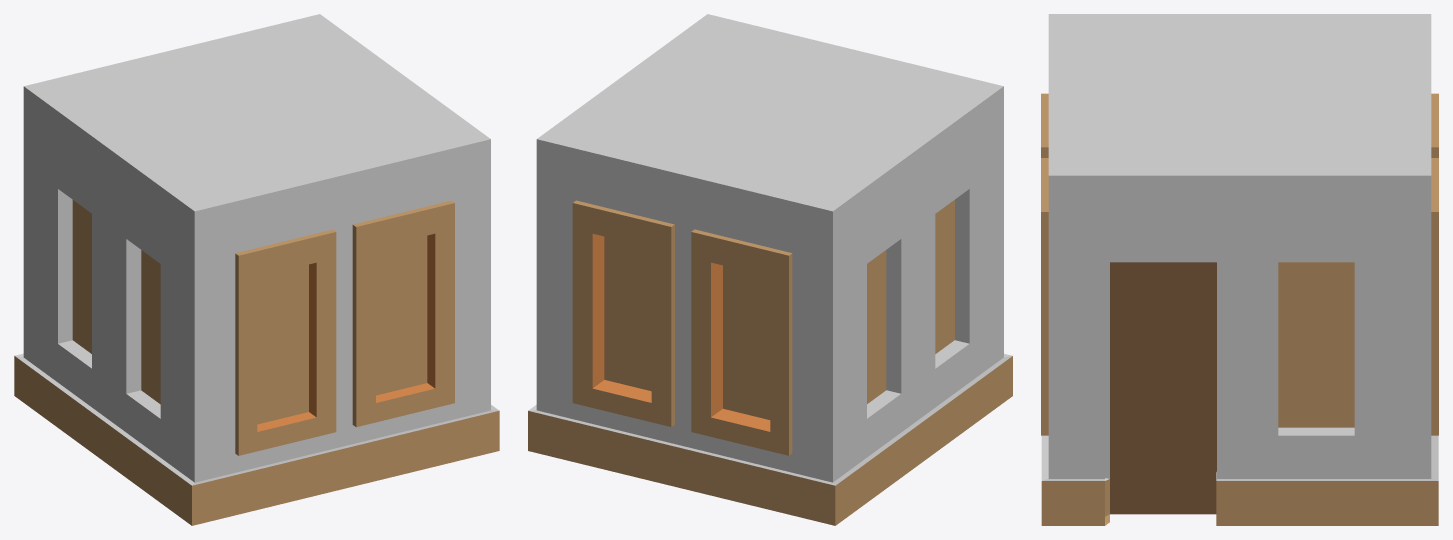
3 renders of one model, left to right at view 1: azimuth 30°, elevation 25°; view 2: azimuth 150°, elevation 25°; view 3: azimuth 270°, elevation 25°, orthographic. The views are drawn at different scales.
Parts seen in each view (by area): view 1: Cube.020; view 2: Cube.020; view 3: Cube.020.
Part boxes in pixels (left/top/right/bottom): Cube.020: left=14, top=14, right=499, bottom=525; Cube.020: left=528, top=14, right=1012, bottom=525; Cube.020: left=1041, top=14, right=1438, bottom=525.
Size of the model in its own units: 104 by 100 by 104.
